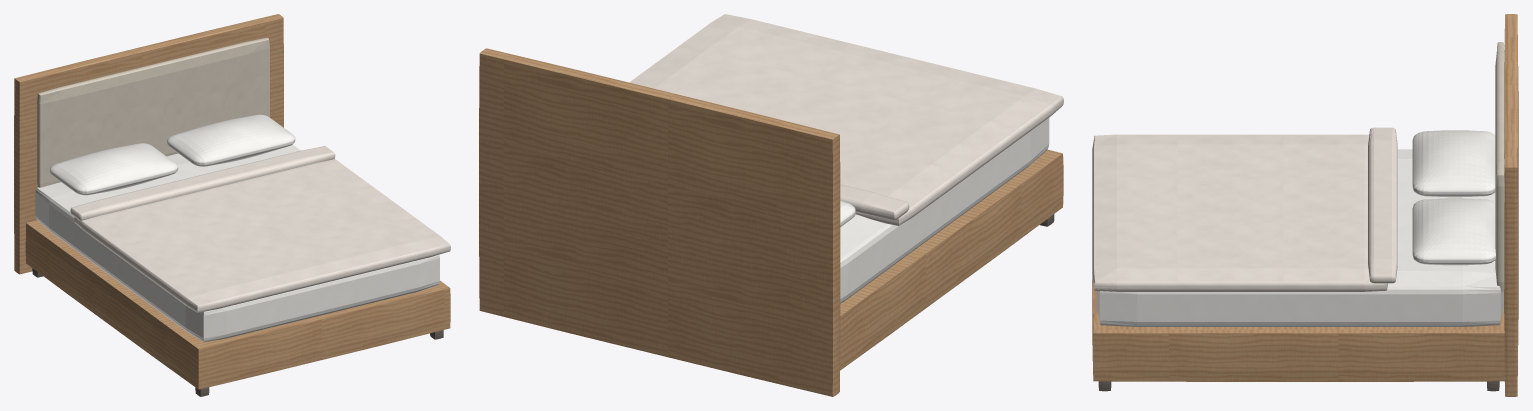
File: bed.glb
The picture shows the model from 3 angles, left to right: view 1: azimuth 30°, elevation 25°; view 2: azimuth 150°, elevation 25°; view 3: azimuth 270°, elevation 25°; orthographic projection. The views are drawn at different scales.
Visible parts, largest first — view 1: Duvet, Frame, Headboard, Mattress, Pillow, DuvetFold; view 2: Frame, Duvet, Mattress, DuvetFold; view 3: Duvet, Frame, Mattress, Pillow, DuvetFold, Headboard.
Part boxes in pixels (x1,y1,x2,y2): Duvet: [74, 159, 450, 312]; Frame: [14, 14, 450, 389]; Headboard: [37, 37, 269, 187]; Mattress: [35, 144, 439, 342]; Pillow: [50, 114, 295, 195]; DuvetFold: [70, 146, 335, 220]; Frame: [479, 48, 1063, 396]; Duvet: [629, 14, 1063, 225]; Mattress: [840, 118, 1049, 303]; DuvetFold: [840, 184, 909, 219]; Duvet: [1092, 134, 1387, 291]; Frame: [1092, 14, 1518, 396]; Mattress: [1096, 149, 1503, 326]; Pillow: [1412, 130, 1495, 265]; DuvetFold: [1368, 127, 1397, 283]; Headboard: [1495, 42, 1504, 291].
Size of the model in its own units: 1.72 by 1.2 by 2.01.
7 materials, 6 textured.
